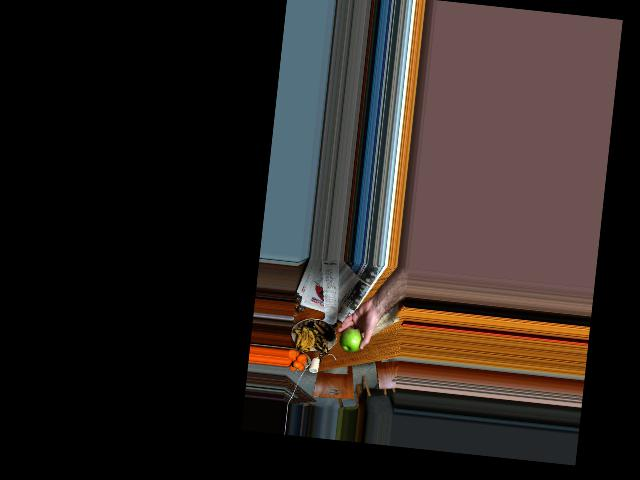apple: (339, 328, 363, 354)
